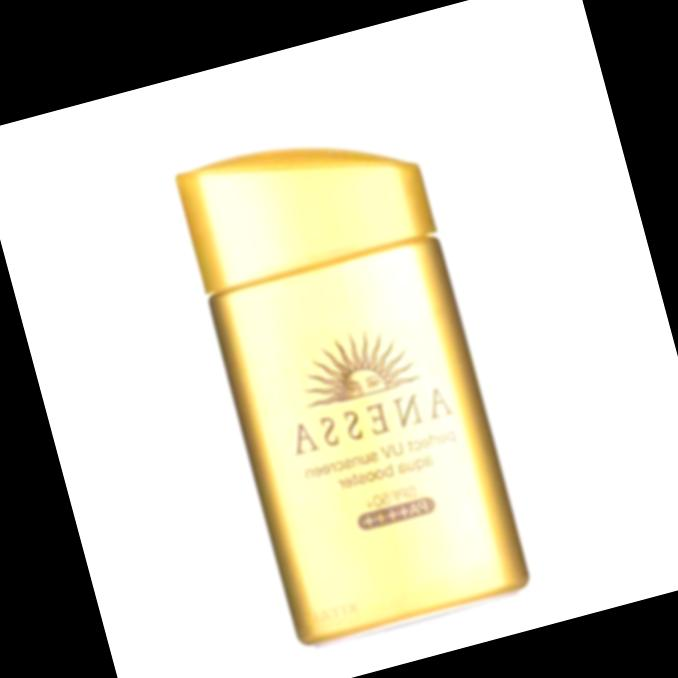cosmetic: (171, 109, 536, 645)
